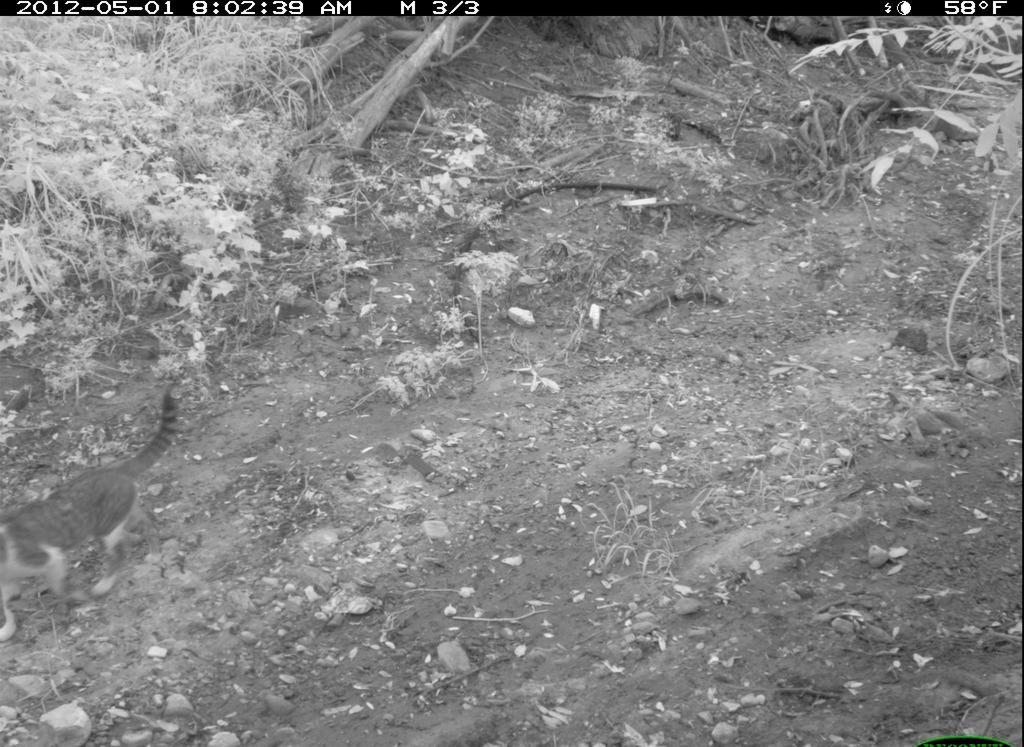cat: (3, 414, 223, 638)
